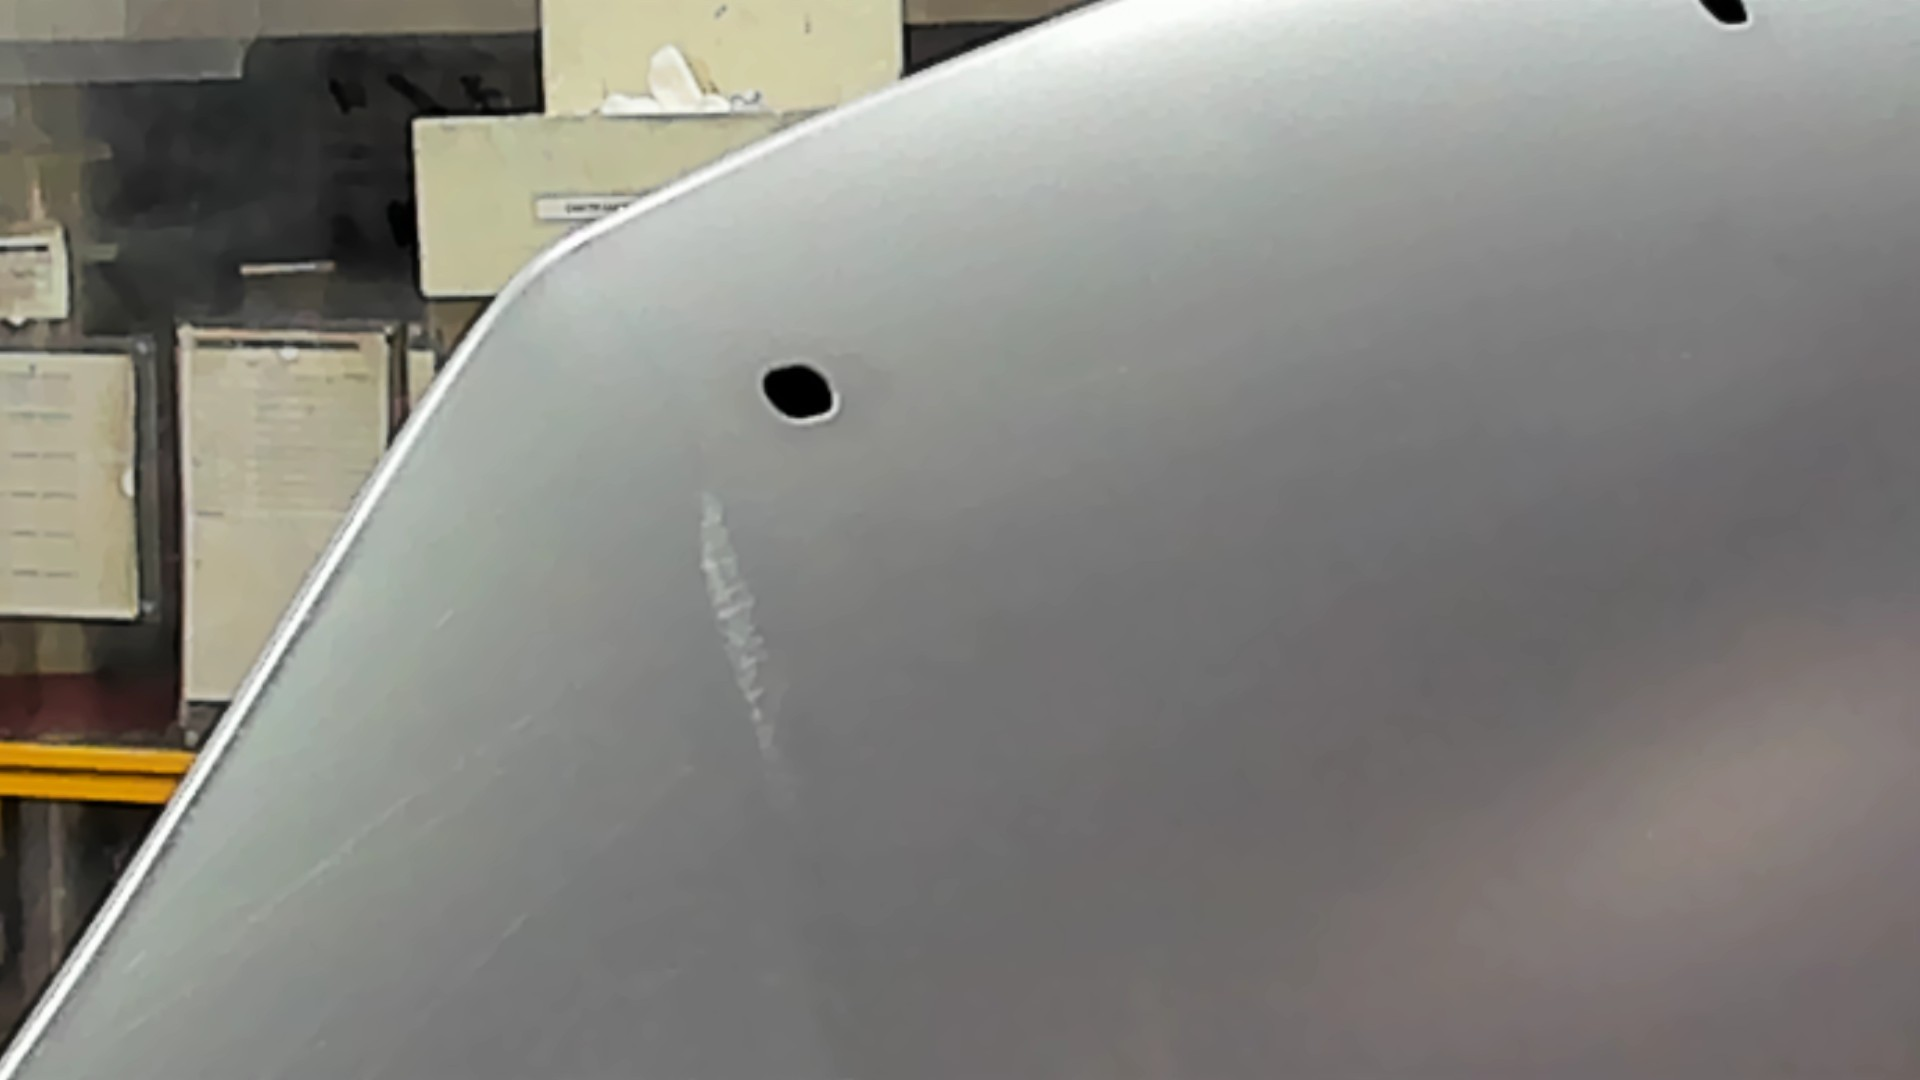amorfo: (750, 353, 847, 431), (1693, 1, 1760, 36)
capo: (948, 112, 1920, 1080)
